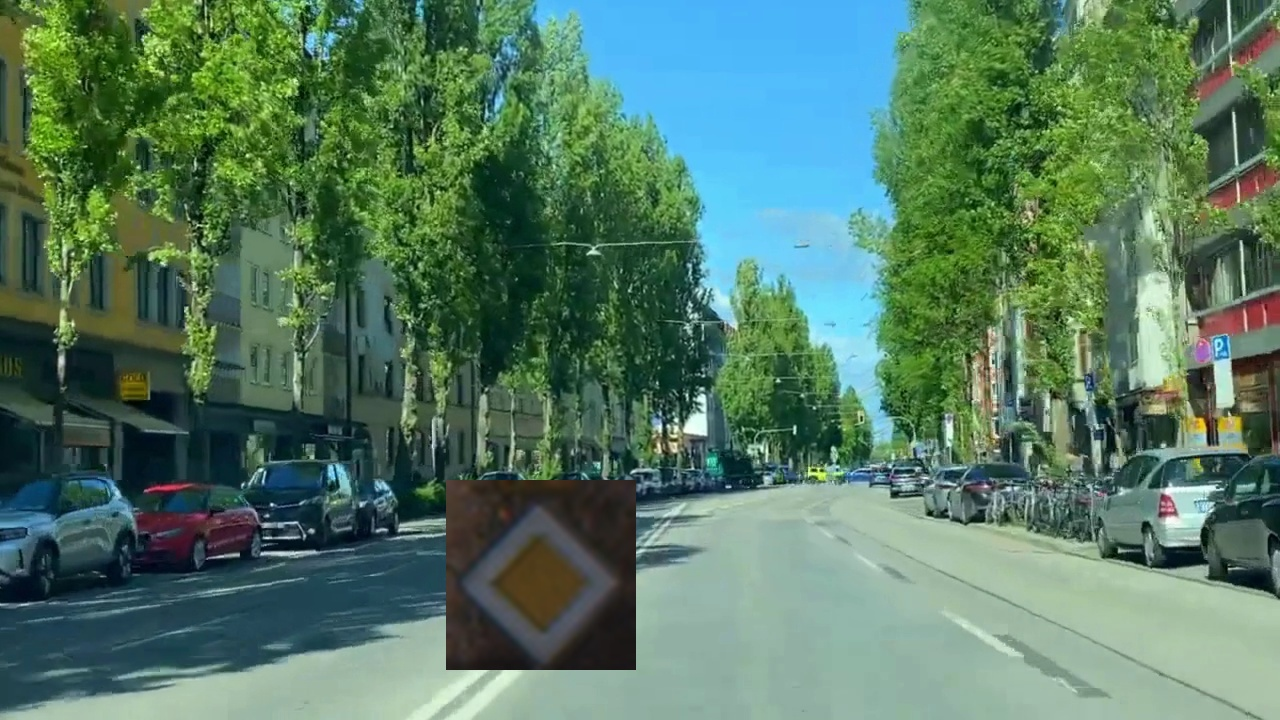Priority road: (446, 480, 636, 670)
